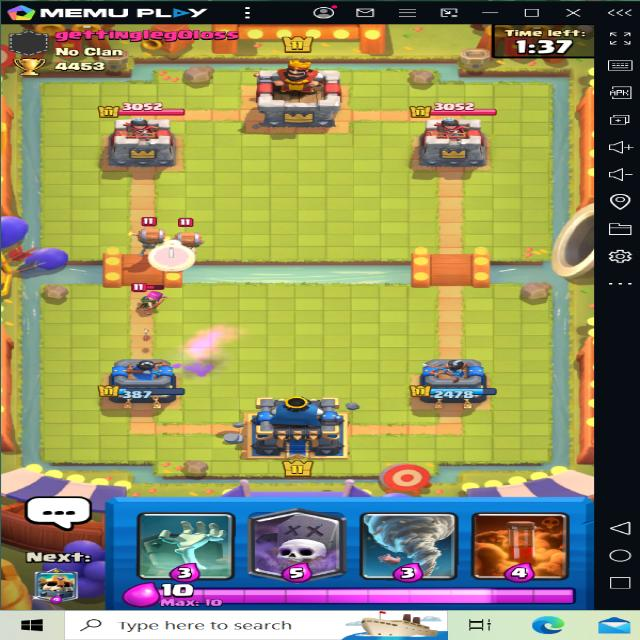archer: (121, 277, 166, 314)
wall-breaker: (128, 215, 165, 253), (173, 214, 206, 251)
